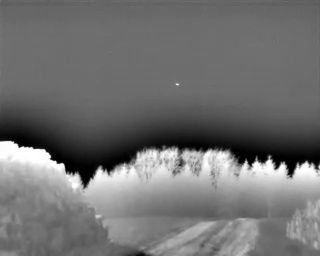AIRPLANE: (174, 80, 181, 88)
